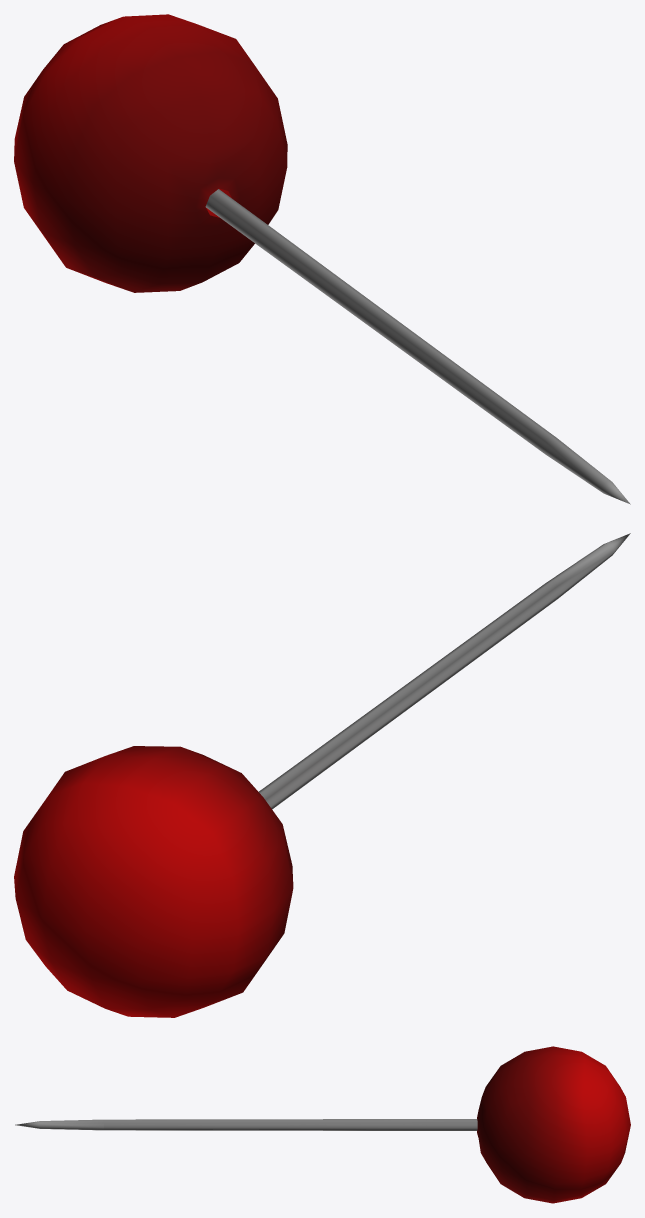
File: human-household-items-sewing-pin_v1.glb
3 views of the same model, one above another, from view 1: azimuth 30°, elevation 25°; view 2: azimuth 150°, elevation 25°; view 3: azimuth 270°, elevation 25° (orthographic). The views are drawn at different scales.
Parts seen in each view (by area): view 1: Sewing Pin, Sewing Pin.001; view 2: Sewing Pin, Sewing Pin.001; view 3: Sewing Pin, Sewing Pin.001.
Boxes of the visible parts, box(x1,y1,x2,y2) form: Sewing Pin: box(14, 14, 287, 292); Sewing Pin.001: box(205, 189, 630, 504); Sewing Pin: box(14, 746, 293, 1017); Sewing Pin.001: box(259, 533, 630, 809); Sewing Pin: box(477, 1046, 630, 1203); Sewing Pin.001: box(15, 1119, 477, 1130).
Size of the model in its own units: 0.01 by 0.01 by 0.04.
